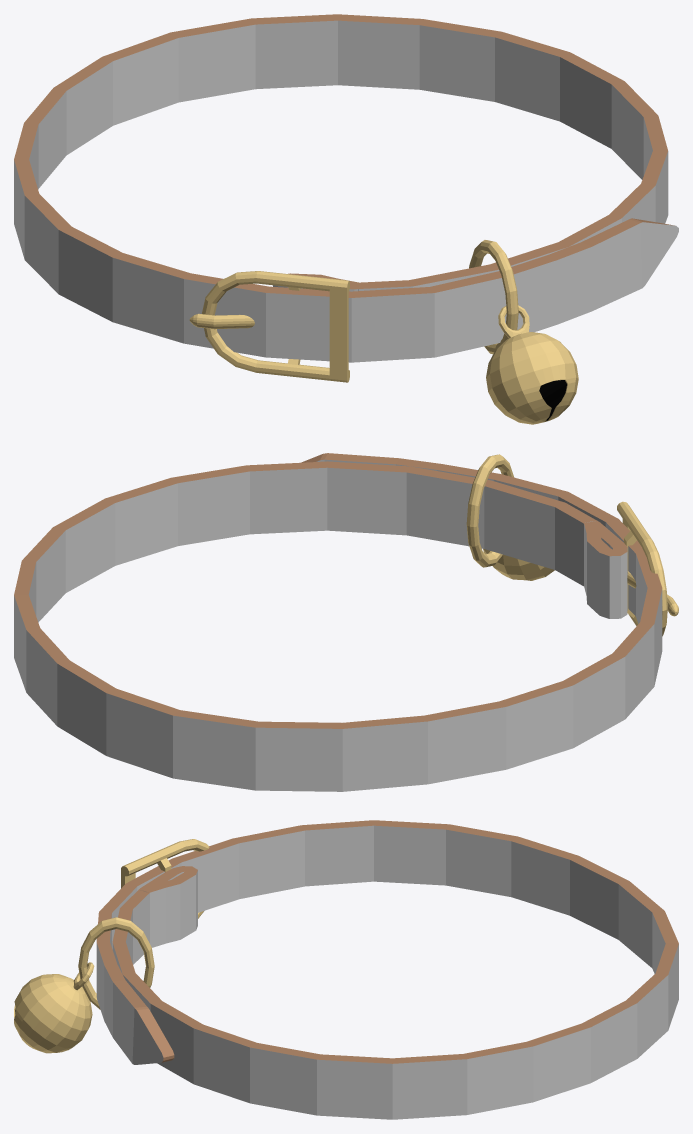
The model's file is Stuff.L_Сollar.withBell.fbx.
The picture shows the model from 3 angles, top to bottom: view 1: azimuth 30°, elevation 25°; view 2: azimuth 150°, elevation 25°; view 3: azimuth 270°, elevation 25°; orthographic projection. The views are drawn at different scales.
Visible parts, largest first — view 1: Stuff.L_Сollar.withBell; view 2: Stuff.L_Сollar.withBell; view 3: Stuff.L_Сollar.withBell.
Part boxes in pixels (box(x1,y1,x2,y2)): Stuff.L_Сollar.withBell: box(14, 14, 678, 424); Stuff.L_Сollar.withBell: box(14, 453, 678, 791); Stuff.L_Сollar.withBell: box(14, 820, 678, 1119).
Bounding box in the file's own units: 92.23 × 23.17 × 106.
